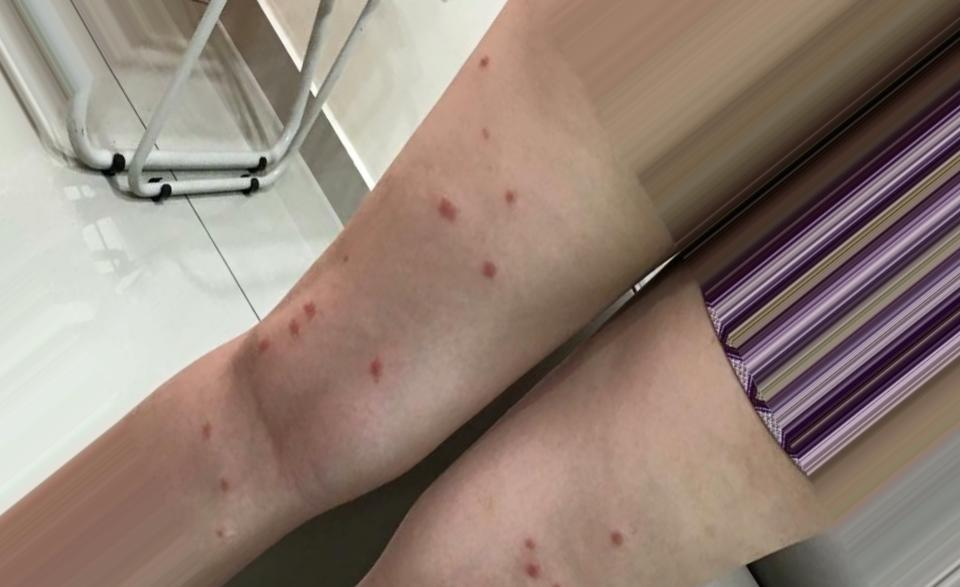Fleas: (189, 416, 228, 452), (517, 555, 554, 587), (605, 524, 637, 557), (498, 185, 527, 215), (475, 258, 503, 285), (434, 195, 461, 221), (281, 316, 306, 343), (366, 356, 387, 384), (299, 299, 321, 323), (212, 474, 234, 497), (336, 254, 364, 271), (213, 521, 236, 540), (476, 53, 496, 72), (520, 534, 539, 553), (257, 332, 271, 356), (477, 125, 493, 142)
